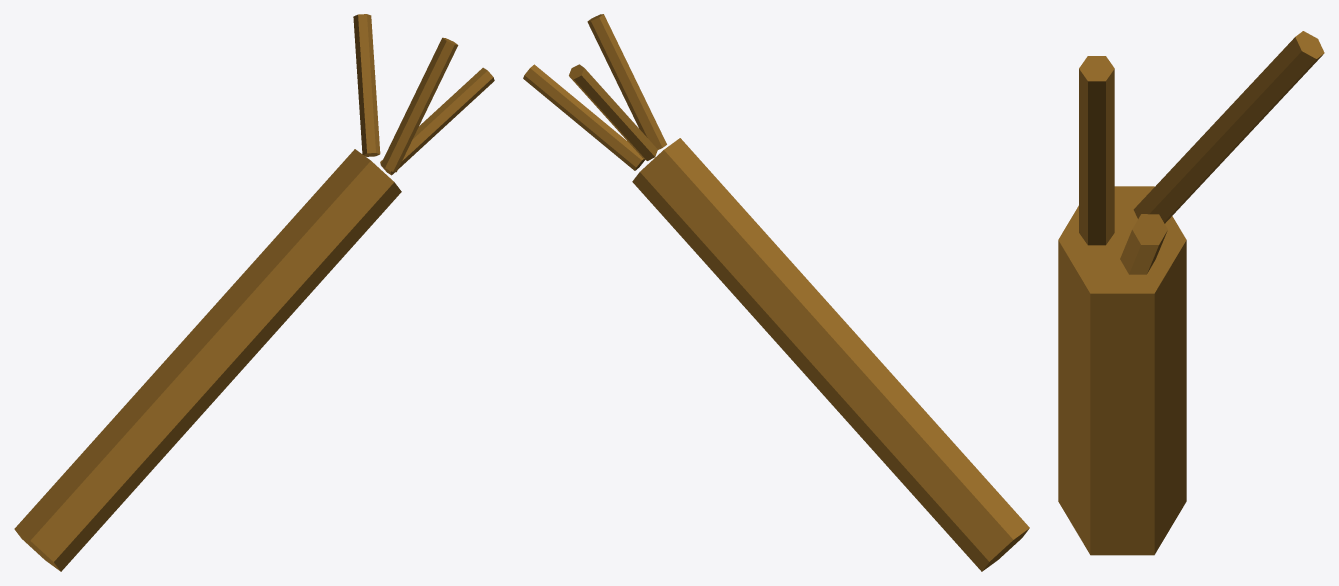
Rendered from Tree_Left_Arm.obj.
3 renders of one model, left to right at view 1: azimuth 30°, elevation 25°; view 2: azimuth 150°, elevation 25°; view 3: azimuth 270°, elevation 25°, orthographic. The views are drawn at different scales.
Parts seen in each view (by area): view 1: Cylinder008, Cylinder010, Cylinder012, Cylinder011; view 2: Cylinder008, Cylinder011, Cylinder012, Cylinder010; view 3: Cylinder008, Cylinder010, Cylinder012, Cylinder011.
Part boxes in pixels (left/top/right/bottom): Cylinder008: left=14, top=149, right=401, bottom=571; Cylinder010: left=353, top=14, right=380, bottom=156; Cylinder012: left=380, top=37, right=458, bottom=172; Cylinder011: left=380, top=67, right=494, bottom=175; Cylinder008: left=632, top=138, right=1029, bottom=571; Cylinder011: left=523, top=64, right=644, bottom=170; Cylinder012: left=587, top=14, right=666, bottom=149; Cylinder010: left=569, top=64, right=657, bottom=160; Cylinder008: left=1058, top=186, right=1186, bottom=555; Cylinder010: left=1133, top=31, right=1324, bottom=223; Cylinder012: left=1079, top=56, right=1114, bottom=245; Cylinder011: left=1120, top=214, right=1167, bottom=274.
Size of the model in its own units: 2.95 by 2.59 by 0.714.
